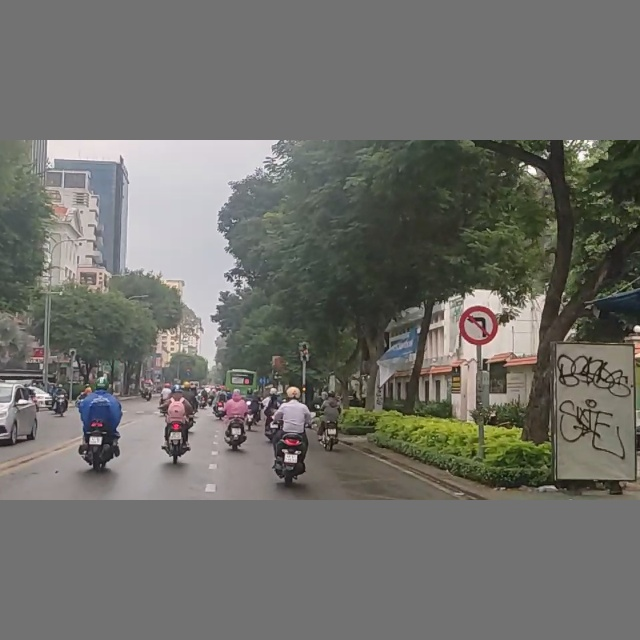P.123a: (459, 305, 499, 346)
